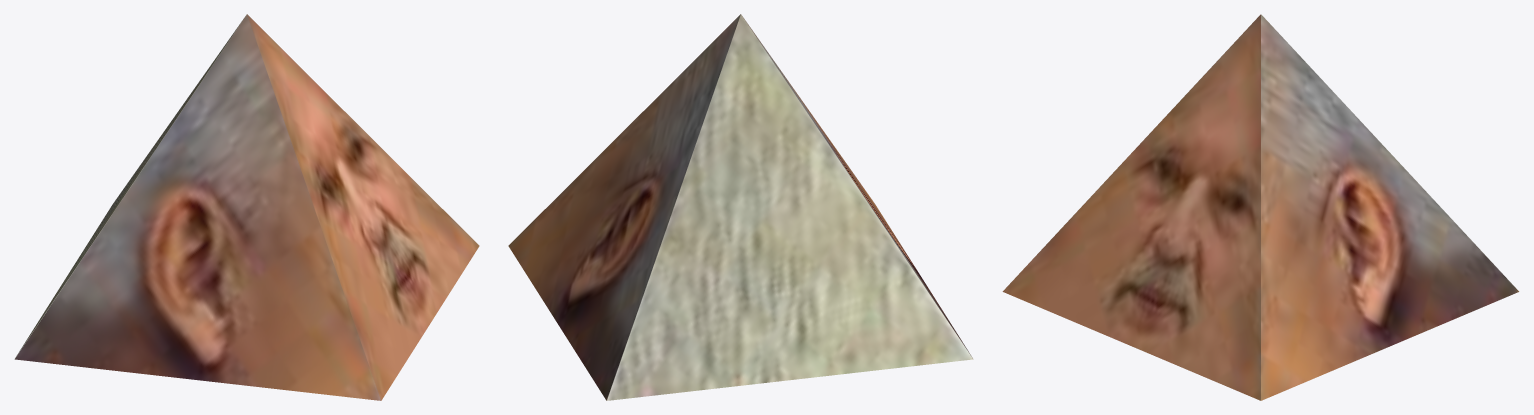
Rendered from topsecretfile.glb.
The picture shows the model from 3 angles, left to right: view 1: azimuth 30°, elevation 25°; view 2: azimuth 150°, elevation 25°; view 3: azimuth 270°, elevation 25°; orthographic projection. The views are drawn at different scales.
Parts seen in each view (by area): view 1: Cone; view 2: Cone; view 3: Cone.
Part boxes in pixels (x1,y1,x2,y2): Cone: [14, 14, 479, 400]; Cone: [508, 14, 973, 400]; Cone: [1002, 14, 1519, 400].
Size of the model in its own units: 5.61 by 3.33 by 5.61.
1 material, 1 textured.
